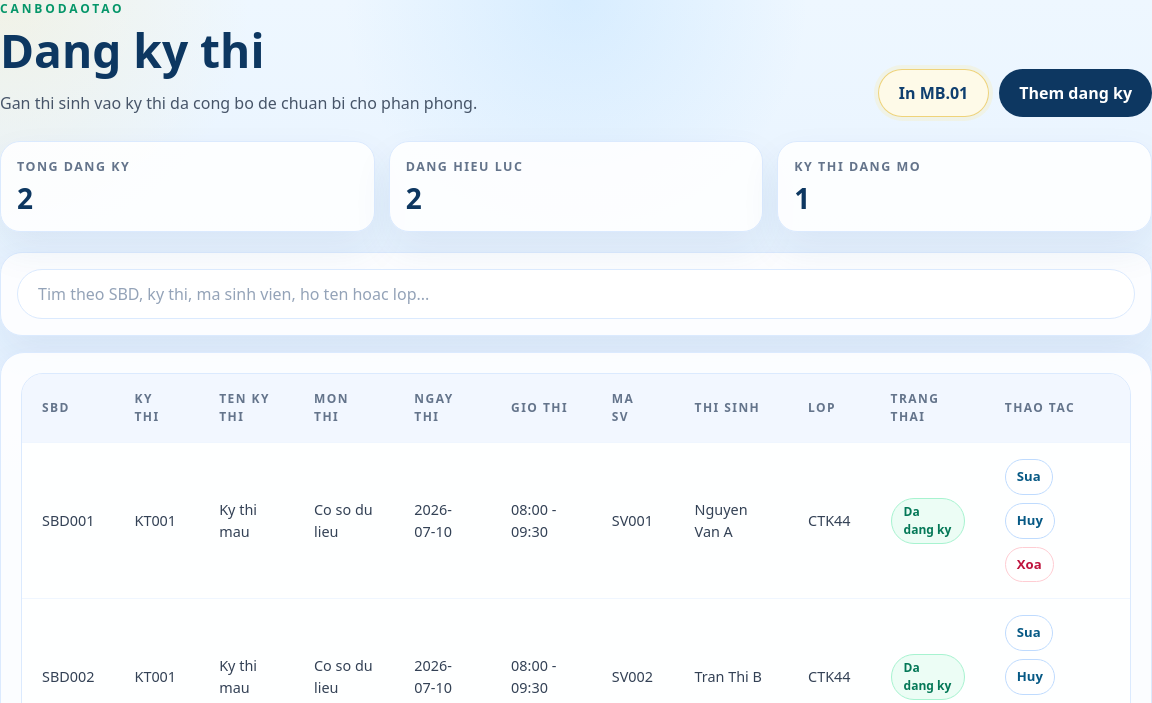
Scenario: RegistrationsPage › opens create dialog and delete confirmation
Step 1. Click the button "Them dang ky" → x=1076, y=93, box [999, 69, 1151, 117]
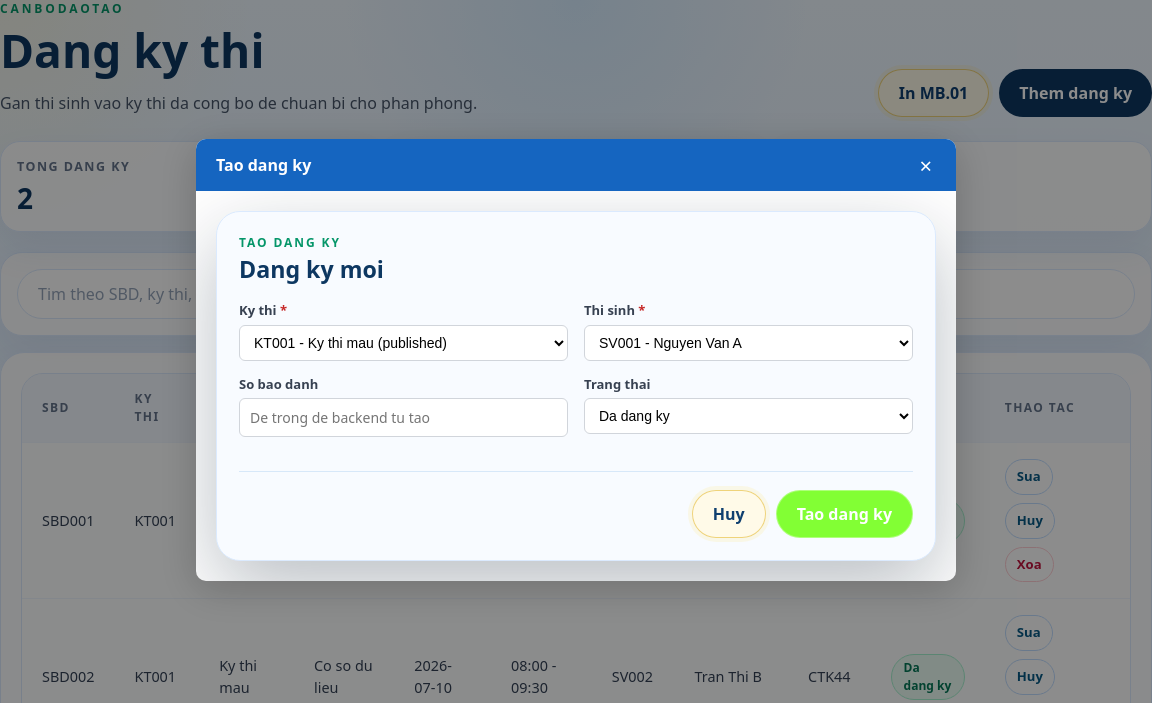
Result: the heading "Dang ky moi" is shown at [239, 256, 384, 283]
Step 2. Click the button "Huy" → x=729, y=514, box [692, 490, 766, 538]
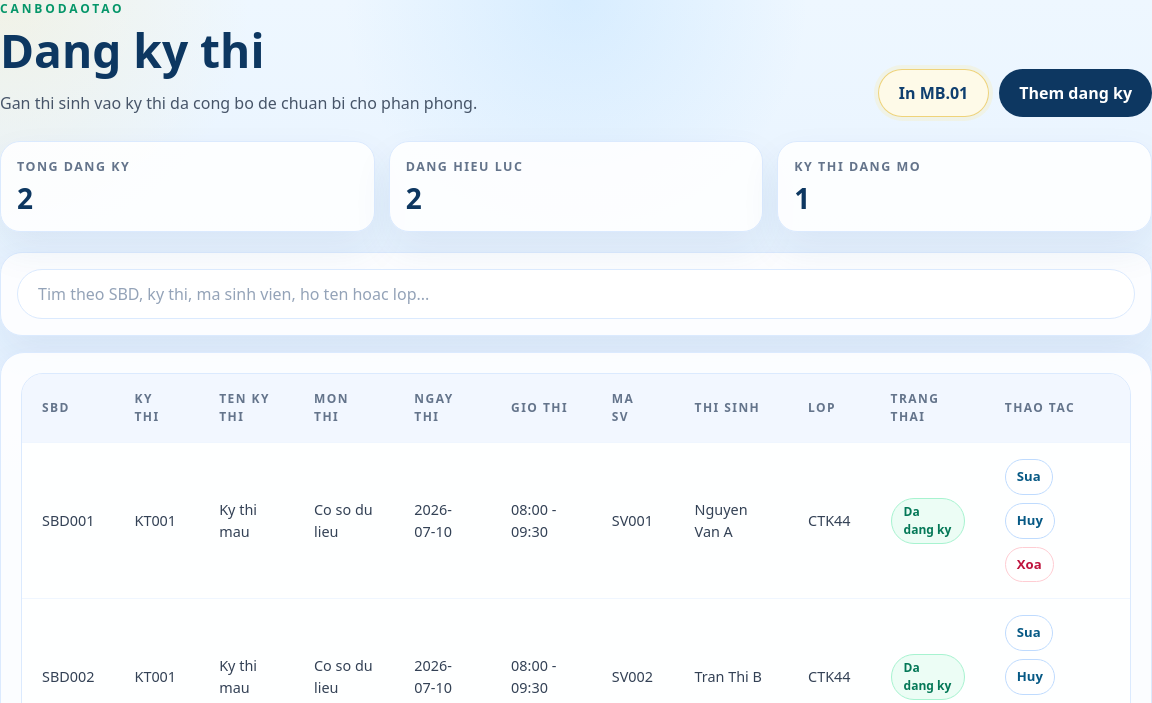
Step 3. Click the button "Xoa" below "Nguyen Van A" → x=1029, y=565, box [1005, 547, 1054, 582]
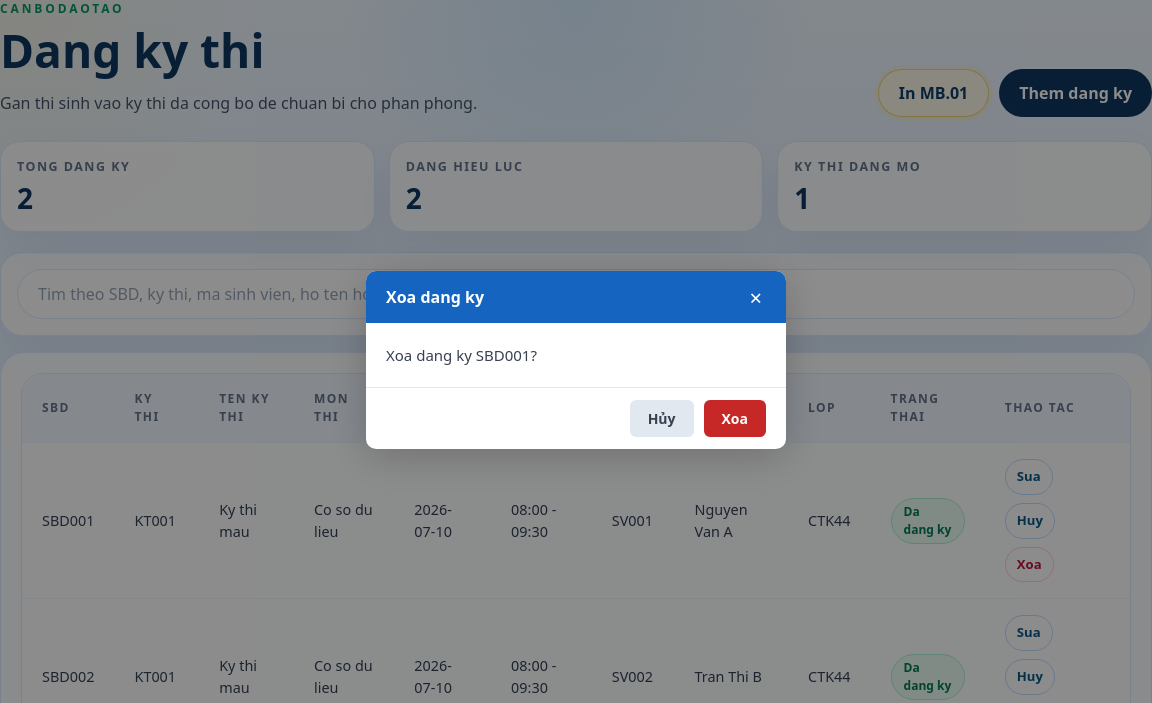
Result: the text "Xoa dang ky" is shown at [386, 285, 484, 309]
